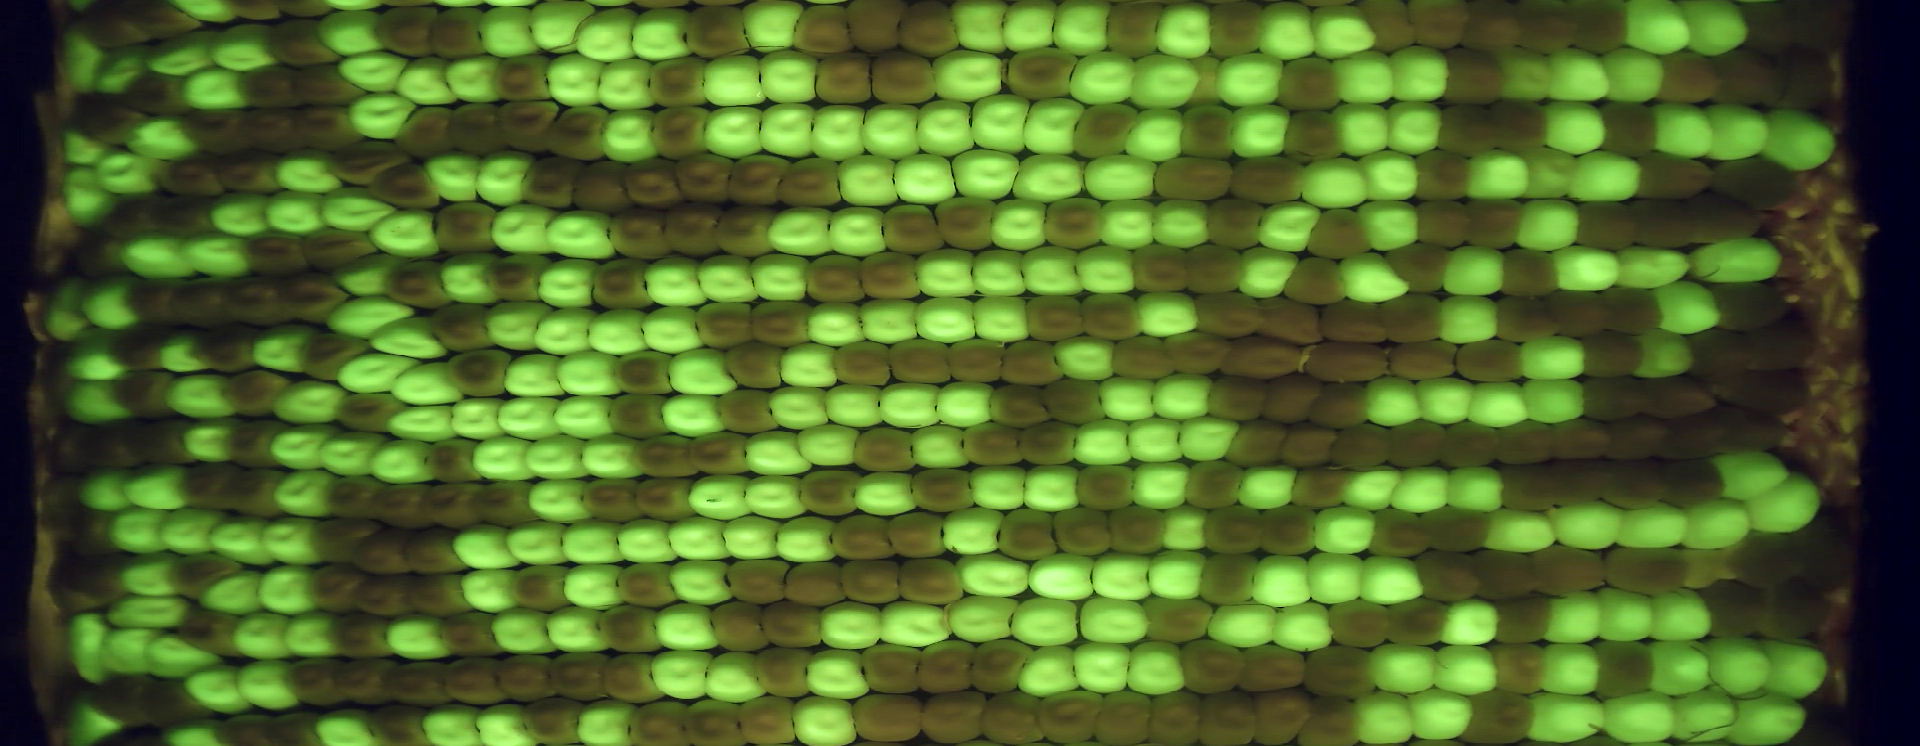fluorescent: (1753, 100, 1845, 176), (1738, 470, 1828, 539), (1689, 233, 1794, 292), (58, 605, 127, 692), (1758, 630, 1838, 706), (1706, 445, 1798, 510), (1520, 684, 1613, 746), (1537, 92, 1618, 160), (1333, 245, 1420, 307), (1696, 98, 1779, 163), (1704, 632, 1779, 704), (36, 272, 104, 350), (1722, 688, 1815, 746), (1562, 147, 1648, 209), (138, 630, 229, 688), (1671, 495, 1762, 554), (178, 658, 260, 723), (1367, 635, 1449, 699), (1385, 40, 1460, 111), (114, 225, 202, 285), (1547, 495, 1631, 557), (233, 653, 313, 718), (313, 180, 407, 236), (169, 227, 260, 284), (1660, 684, 1744, 746), (83, 145, 175, 201), (1244, 545, 1324, 610), (142, 24, 231, 82), (1599, 40, 1673, 110), (924, 47, 1011, 105), (831, 149, 909, 216), (362, 203, 446, 265), (1673, 1, 1756, 62), (1598, 685, 1681, 746), (1644, 96, 1723, 160), (1202, 595, 1287, 655), (888, 148, 969, 211), (1507, 194, 1588, 256), (693, 245, 767, 314), (320, 295, 422, 344), (1547, 240, 1632, 299), (1011, 638, 1093, 699), (945, 145, 1029, 205), (268, 375, 359, 430), (116, 454, 195, 518), (480, 296, 560, 359), (1022, 545, 1102, 608), (1539, 44, 1619, 107), (950, 548, 1038, 604), (54, 160, 122, 233), (204, 17, 285, 78), (342, 85, 422, 146), (362, 311, 454, 365), (1232, 240, 1308, 305), (1608, 240, 1697, 295), (763, 201, 840, 265), (484, 198, 561, 262), (1016, 240, 1093, 304), (801, 642, 878, 706), (244, 318, 331, 375), (872, 597, 959, 653), (153, 500, 233, 561), (1438, 240, 1517, 301), (1018, 92, 1089, 160), (595, 104, 667, 171), (324, 247, 413, 303), (1460, 145, 1540, 205), (331, 348, 422, 401), (1127, 49, 1202, 113), (1642, 584, 1718, 648), (383, 354, 469, 410), (1071, 590, 1157, 647), (160, 365, 242, 424), (1296, 152, 1378, 211), (645, 643, 722, 706), (1254, 196, 1331, 258), (435, 249, 513, 310), (252, 559, 331, 620), (173, 61, 256, 119), (465, 431, 549, 489), (1620, 1, 1703, 59), (1476, 503, 1562, 559), (88, 36, 159, 103), (909, 93, 980, 160), (1644, 633, 1716, 701), (1125, 454, 1198, 521), (203, 510, 283, 570), (1089, 545, 1163, 609), (936, 499, 1011, 561), (1307, 1, 1382, 64), (1067, 44, 1142, 107), (1307, 500, 1382, 562), (98, 588, 200, 635), (698, 50, 775, 111), (266, 463, 343, 524), (264, 419, 347, 477), (362, 432, 444, 490), (473, 143, 541, 212), (1353, 550, 1431, 610), (1424, 639, 1502, 699), (1382, 94, 1452, 162), (1513, 142, 1586, 207), (309, 428, 396, 481), (1607, 499, 1693, 552), (569, 1, 643, 65), (857, 100, 931, 164), (1009, 149, 1089, 208), (59, 330, 138, 388), (1217, 48, 1291, 111), (58, 18, 113, 103), (1509, 330, 1593, 385), (662, 343, 743, 401), (533, 254, 609, 315), (1091, 195, 1167, 256), (1117, 638, 1193, 699), (1404, 685, 1480, 746), (542, 206, 620, 266), (1048, 328, 1125, 388), (381, 608, 458, 668), (1653, 276, 1730, 336), (542, 47, 610, 115), (75, 269, 143, 337), (665, 554, 743, 612), (1147, 1, 1220, 65), (1224, 98, 1297, 162), (1528, 636, 1600, 699), (120, 110, 203, 165), (640, 250, 714, 312), (446, 519, 529, 575), (1091, 367, 1164, 430), (909, 243, 983, 304), (1430, 287, 1505, 348), (1008, 590, 1084, 650), (576, 428, 651, 488), (98, 621, 174, 681), (943, 592, 1027, 646), (756, 98, 823, 165), (967, 89, 1033, 158), (609, 510, 686, 568), (628, 2, 698, 67), (1332, 45, 1402, 110), (1123, 103, 1194, 167), (1356, 145, 1427, 208), (656, 387, 738, 442), (966, 245, 1038, 307), (1141, 543, 1213, 605), (527, 303, 605, 360), (1146, 366, 1220, 428), (558, 559, 638, 615), (698, 648, 773, 708), (816, 597, 891, 655), (422, 142, 489, 209), (806, 100, 872, 168), (1493, 40, 1560, 107), (1069, 633, 1138, 698), (1538, 586, 1607, 650), (312, 5, 389, 62), (736, 1, 813, 59), (637, 300, 714, 358), (1071, 239, 1142, 301), (737, 469, 816, 526), (193, 563, 272, 620), (744, 247, 818, 307), (1266, 598, 1340, 658), (1435, 590, 1509, 650), (470, 5, 545, 64), (1067, 413, 1141, 472), (269, 145, 349, 200), (1593, 582, 1659, 648), (756, 45, 823, 110), (700, 100, 768, 165), (260, 185, 336, 243), (553, 345, 629, 403), (771, 512, 847, 570), (542, 601, 618, 659), (69, 463, 144, 521), (1349, 196, 1425, 254), (493, 390, 574, 443), (1149, 194, 1220, 255), (1349, 685, 1420, 746), (331, 47, 415, 98), (872, 376, 949, 432), (742, 425, 819, 481), (556, 514, 633, 571), (1131, 285, 1209, 342), (1300, 548, 1373, 608), (58, 376, 140, 429), (1081, 149, 1163, 202), (104, 501, 178, 560), (1411, 371, 1484, 430), (1441, 461, 1515, 519), (523, 473, 598, 530), (1173, 410, 1248, 468), (984, 192, 1053, 255), (523, 1, 599, 58), (789, 690, 864, 746), (489, 604, 564, 660), (278, 603, 348, 664), (793, 420, 871, 475), (583, 304, 655, 363), (180, 412, 252, 470), (500, 514, 573, 572), (1460, 376, 1534, 432), (1254, 1, 1322, 62), (823, 201, 893, 261), (258, 510, 328, 570), (457, 562, 528, 621), (437, 51, 509, 109), (853, 464, 926, 522), (1354, 372, 1428, 429), (394, 51, 462, 113), (911, 292, 986, 347), (59, 687, 129, 746), (518, 430, 598, 481), (763, 380, 839, 434), (650, 600, 722, 657), (201, 187, 278, 240), (770, 338, 845, 392), (684, 472, 759, 526), (1047, 1, 1117, 59), (553, 387, 624, 443), (667, 513, 738, 570), (1516, 375, 1592, 428), (856, 292, 928, 347), (720, 510, 786, 570), (931, 375, 1004, 429), (969, 292, 1037, 349), (498, 348, 573, 401), (902, 421, 978, 473), (820, 379, 893, 432), (595, 55, 661, 114), (945, 1, 1014, 58), (1018, 461, 1086, 517), (1333, 98, 1395, 160), (997, 1, 1063, 59), (1237, 458, 1303, 516), (1122, 413, 1190, 468), (1636, 326, 1700, 385), (153, 323, 220, 379), (966, 461, 1033, 516), (1340, 461, 1408, 514), (803, 295, 873, 348), (118, 548, 187, 600), (444, 392, 513, 445), (382, 401, 464, 443), (228, 608, 295, 659), (1386, 459, 1455, 510), (310, 701, 386, 746), (571, 697, 640, 746), (471, 697, 540, 746), (51, 122, 118, 171), (1157, 500, 1217, 554), (418, 697, 482, 746), (153, 717, 234, 746)
nonfluorescent: (1697, 575, 1773, 654), (863, 44, 953, 111), (1713, 364, 1818, 420), (1768, 40, 1840, 121), (69, 86, 153, 154), (1706, 153, 1807, 209), (1730, 526, 1813, 594), (38, 557, 129, 620), (1738, 312, 1823, 377), (1003, 38, 1082, 108), (323, 127, 414, 189), (1626, 147, 1722, 205), (1589, 636, 1668, 706), (1703, 42, 1783, 110), (1431, 44, 1512, 111), (293, 327, 383, 387), (768, 149, 850, 216), (1302, 639, 1385, 704), (160, 545, 249, 606), (1455, 685, 1543, 746), (1213, 330, 1311, 385), (1787, 516, 1858, 592), (1679, 189, 1764, 251), (1703, 278, 1794, 337), (1603, 541, 1697, 598), (273, 261, 356, 325), (1173, 636, 1258, 698), (298, 219, 387, 278), (1248, 290, 1333, 352), (1622, 190, 1703, 255), (618, 430, 709, 488), (808, 47, 884, 115), (964, 635, 1043, 699), (1468, 541, 1549, 605), (1133, 592, 1222, 649), (1368, 285, 1453, 345), (1651, 451, 1733, 513), (1760, 577, 1834, 646), (1528, 541, 1615, 600), (593, 599, 673, 661), (665, 145, 741, 211), (796, 247, 872, 314), (1031, 684, 1111, 746), (118, 272, 197, 334), (853, 637, 933, 699), (913, 685, 994, 746), (647, 100, 721, 167), (489, 94, 564, 159), (431, 195, 507, 260), (214, 269, 296, 330), (220, 412, 298, 475), (1576, 370, 1663, 426), (847, 687, 931, 746), (1379, 239, 1458, 300), (568, 152, 638, 222), (1071, 96, 1144, 163), (587, 250, 659, 317), (1679, 326, 1763, 383), (1227, 151, 1311, 208), (538, 100, 611, 167), (1593, 97, 1667, 163), (238, 225, 318, 285), (397, 523, 478, 583), (931, 191, 1005, 256), (1302, 336, 1393, 388), (1273, 50, 1349, 114), (133, 674, 219, 730), (83, 668, 165, 726), (1596, 454, 1678, 513), (890, 1, 967, 64), (424, 296, 501, 359), (216, 364, 299, 421), (328, 385, 411, 442), (1485, 292, 1569, 349), (1658, 40, 1728, 109), (660, 197, 732, 263), (174, 605, 253, 665), (894, 550, 973, 610), (322, 608, 402, 668), (327, 650, 407, 710), (1275, 250, 1354, 310), (138, 190, 229, 243), (122, 412, 203, 470), (380, 254, 456, 316), (165, 272, 241, 334), (1322, 592, 1398, 654), (171, 458, 249, 519), (1149, 153, 1240, 205), (1633, 370, 1723, 423), (369, 156, 447, 216), (156, 146, 234, 206), (1540, 285, 1619, 345), (1194, 544, 1264, 611), (190, 323, 273, 380), (911, 635, 983, 699), (263, 13, 343, 72), (1593, 282, 1673, 341), (1460, 192, 1533, 256), (1453, 1, 1533, 60), (1038, 191, 1113, 254), (420, 1, 496, 62), (1411, 545, 1488, 605), (290, 100, 372, 157), (306, 512, 388, 568), (1713, 401, 1795, 457), (1573, 327, 1656, 383), (287, 58, 372, 111), (707, 201, 785, 260), (1348, 1, 1427, 60), (220, 463, 293, 527), (1194, 684, 1267, 746), (1247, 684, 1320, 746), (1190, 285, 1273, 341), (516, 152, 590, 213), (1483, 639, 1558, 701), (720, 149, 796, 209), (779, 554, 855, 614), (440, 650, 516, 710), (787, 1, 864, 60), (748, 642, 819, 706), (378, 655, 460, 710), (1231, 639, 1313, 695), (846, 423, 924, 480), (506, 560, 584, 617), (683, 1, 757, 62), (989, 503, 1063, 565), (180, 104, 260, 160), (613, 152, 688, 212), (756, 597, 830, 657), (544, 646, 618, 706), (1199, 500, 1273, 560), (1178, 240, 1253, 300), (369, 4, 444, 62), (443, 345, 519, 404), (601, 386, 677, 445), (722, 554, 803, 609), (443, 97, 513, 160), (647, 50, 716, 114), (993, 334, 1070, 392), (978, 684, 1049, 746), (598, 648, 669, 710), (1201, 191, 1272, 254), (1575, 194, 1646, 256), (116, 69, 198, 122), (211, 145, 289, 201), (490, 650, 568, 707), (824, 334, 898, 394), (104, 318, 178, 379), (853, 247, 928, 306), (1658, 405, 1738, 461), (1158, 325, 1238, 380), (1316, 295, 1396, 350), (394, 99, 460, 165), (320, 468, 396, 526), (1409, 145, 1478, 208), (1202, 1, 1272, 64), (1091, 685, 1162, 746), (878, 198, 950, 258), (1021, 287, 1093, 347), (104, 364, 176, 424), (613, 554, 686, 614), (238, 102, 311, 160), (955, 415, 1029, 474), (623, 470, 702, 526), (1495, 458, 1569, 517), (1300, 205, 1374, 263), (1510, 1, 1583, 60), (708, 595, 774, 660), (98, 189, 178, 243), (718, 334, 787, 396), (1124, 238, 1194, 299), (1382, 415, 1453, 475), (1408, 195, 1479, 255), (986, 379, 1058, 437), (348, 526, 420, 584), (836, 554, 909, 612), (1330, 416, 1403, 474), (1496, 245, 1570, 303), (42, 416, 107, 481), (1037, 374, 1112, 430), (403, 567, 478, 624), (1222, 415, 1297, 472), (484, 250, 553, 310), (884, 505, 954, 565), (1253, 501, 1322, 561), (1438, 415, 1507, 475), (1487, 96, 1556, 156), (73, 1, 149, 56), (1401, 1, 1477, 56), (1787, 1, 1862, 56), (280, 654, 351, 713), (1365, 501, 1436, 560), (1428, 100, 1499, 159), (885, 334, 958, 392), (73, 416, 146, 474), (1545, 456, 1622, 510), (748, 298, 822, 354), (436, 605, 509, 661), (1296, 690, 1369, 746), (1081, 285, 1147, 348), (1051, 500, 1117, 562), (1140, 685, 1207, 746), (1382, 336, 1464, 386), (1280, 107, 1348, 167), (1172, 100, 1240, 160), (1102, 1, 1171, 61), (676, 692, 752, 746), (905, 463, 981, 517), (471, 475, 542, 533), (1071, 457, 1142, 514), (1258, 369, 1329, 426), (687, 425, 759, 481), (350, 567, 422, 624), (1178, 454, 1250, 511), (736, 691, 809, 746), (1380, 594, 1453, 649), (305, 559, 372, 619), (1305, 375, 1373, 435), (1013, 414, 1082, 472), (796, 465, 866, 523), (69, 225, 140, 282), (1490, 414, 1561, 470), (418, 480, 493, 533), (604, 348, 683, 398), (1202, 370, 1275, 425), (606, 205, 671, 266), (578, 472, 651, 526), (369, 477, 436, 535), (694, 299, 763, 356), (1276, 416, 1344, 474), (233, 62, 309, 114), (493, 50, 558, 110), (827, 511, 899, 565), (359, 696, 436, 746), (1283, 461, 1357, 513), (1451, 333, 1524, 386), (1603, 412, 1678, 463), (1493, 590, 1558, 649), (842, 1, 910, 58), (713, 385, 781, 440), (1548, 412, 1618, 465), (1569, 1, 1633, 59), (118, 1, 202, 45), (943, 334, 1010, 390), (1107, 332, 1180, 382), (624, 695, 696, 746), (422, 434, 489, 489), (44, 332, 87, 416), (1741, 1, 1802, 60), (519, 693, 587, 746), (67, 503, 129, 560), (38, 469, 92, 527), (207, 708, 276, 746), (262, 706, 324, 746)
